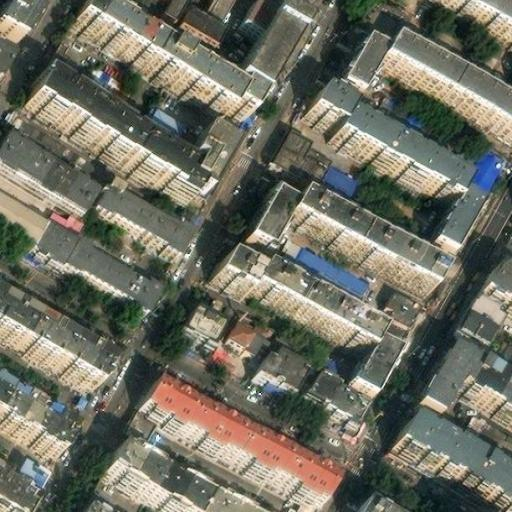building: (212, 253, 396, 399), (25, 75, 228, 207), (131, 386, 326, 510), (67, 1, 254, 120), (281, 190, 438, 293), (374, 39, 512, 136), (31, 223, 162, 312), (328, 112, 460, 200), (389, 418, 512, 512), (0, 302, 115, 395), (85, 175, 191, 260), (101, 448, 226, 512), (410, 350, 512, 424), (227, 12, 299, 100), (423, 164, 487, 256), (280, 240, 370, 305), (0, 392, 80, 464), (288, 123, 352, 184), (370, 288, 426, 345), (300, 375, 361, 424), (329, 37, 378, 97), (249, 346, 304, 395), (462, 280, 509, 334), (246, 177, 291, 232), (140, 99, 187, 147), (51, 24, 92, 65), (177, 308, 219, 346), (227, 306, 267, 345), (302, 90, 343, 126), (484, 247, 512, 295), (358, 487, 411, 511), (238, 0, 272, 37), (338, 165, 375, 198), (46, 203, 77, 232), (77, 494, 118, 512)
